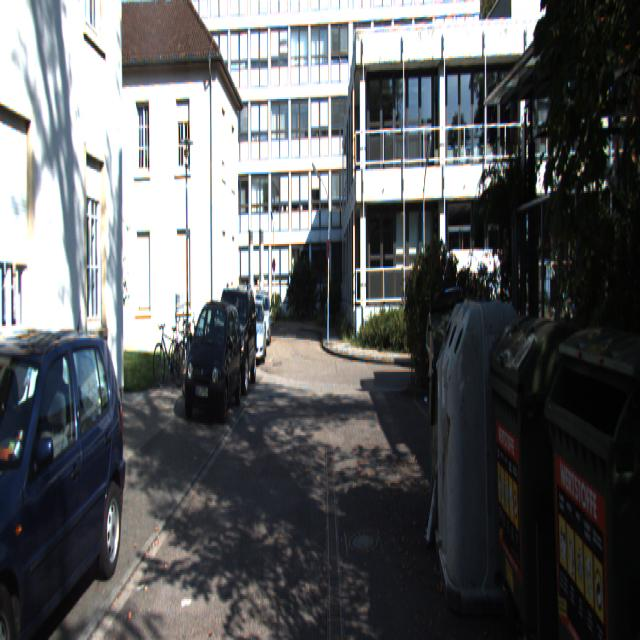Car: (0, 317, 130, 638), (181, 300, 244, 426), (211, 278, 259, 396), (241, 297, 268, 363)
